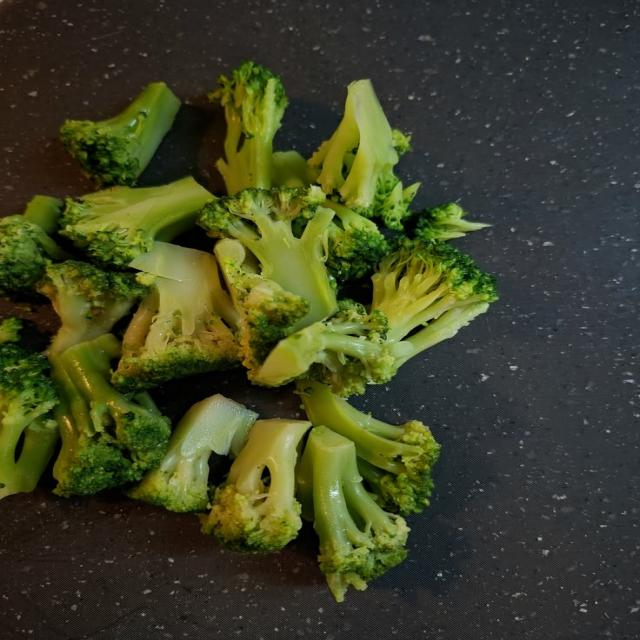broccoli: (49, 334, 171, 496), (199, 187, 337, 328), (298, 427, 409, 602), (298, 381, 439, 514), (113, 243, 239, 390), (309, 80, 419, 230), (371, 237, 497, 365), (127, 395, 257, 512), (201, 419, 311, 552), (60, 177, 213, 268), (252, 300, 397, 396), (214, 239, 309, 378), (60, 83, 180, 185), (0, 318, 59, 498), (209, 61, 287, 195), (35, 261, 148, 352), (0, 215, 70, 296), (323, 199, 389, 283), (413, 203, 490, 240), (23, 196, 63, 234), (272, 150, 312, 188), (0, 316, 23, 345)
